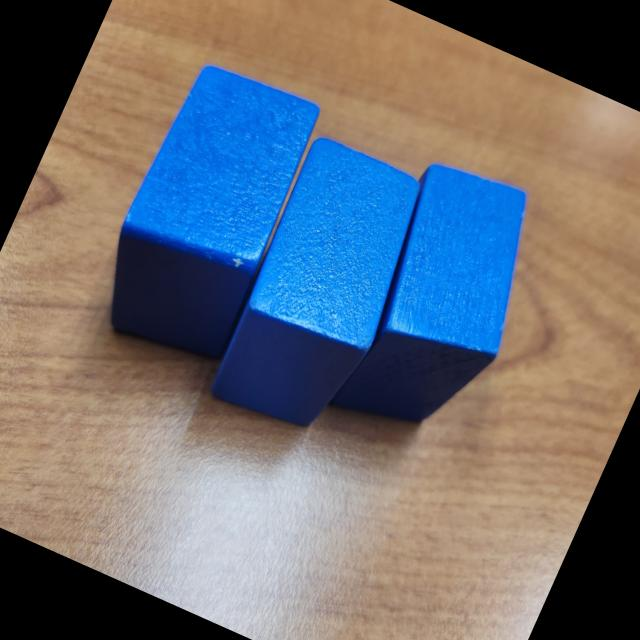blue: (80, 51, 334, 378), (200, 133, 442, 450), (318, 150, 562, 462)
